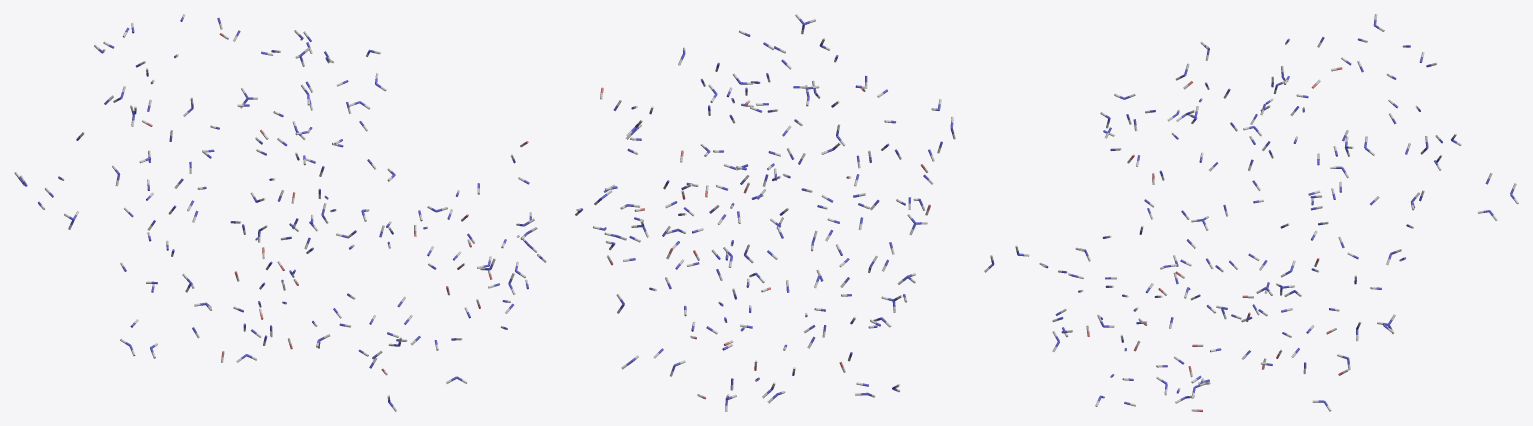
The model's file is 1lyz__sticks__default__H.glb.
3 renders of one model, left to right at view 1: azimuth 30°, elevation 25°; view 2: azimuth 150°, elevation 25°; view 3: azimuth 270°, elevation 25°, orthographic. The views are drawn at different scales.
Parts seen in each view (by area): view 1: Renderer Node; view 2: Renderer Node; view 3: Renderer Node.
Part boxes in pixels (bbox=[...]): Renderer Node: bbox=[14, 14, 546, 411]; Renderer Node: bbox=[575, 14, 955, 411]; Renderer Node: bbox=[984, 14, 1518, 411].
Bounding box in the file's own units: 37.99 × 31.25 × 45.6.
